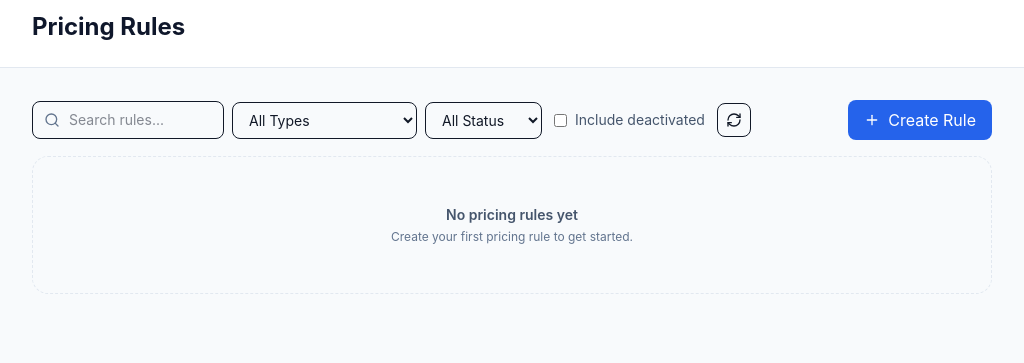
Test: B3 — Clear filters › distinguishes 'no match' from 'no rules yet'
Expected: the text "No pricing rules yet" is shown, [446,205,578,225]
Select "Expired" in the dropdown named "Rule status": (484, 120) [425,102,542,138]
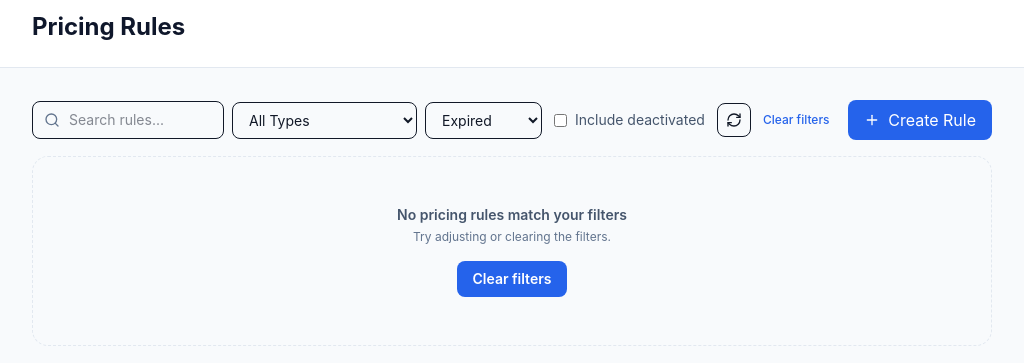
Now the text "No pricing rules match your filters" is shown, box [397,205,627,225]
